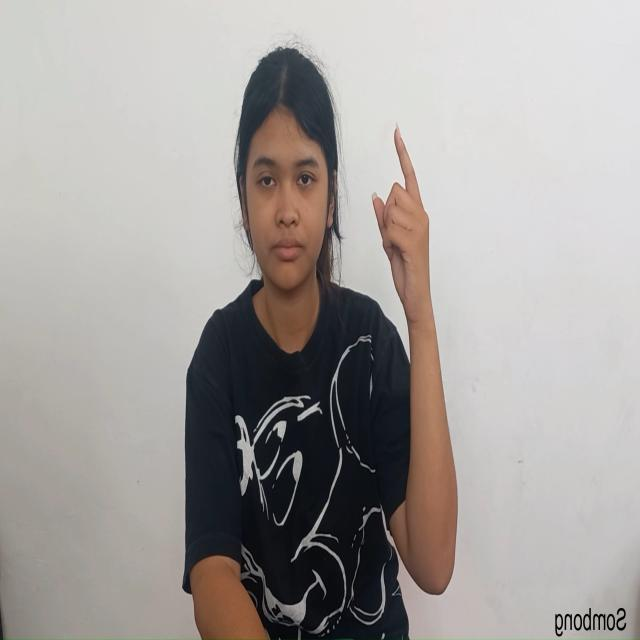Sombong -BISINDO-: (370, 117, 459, 600)
